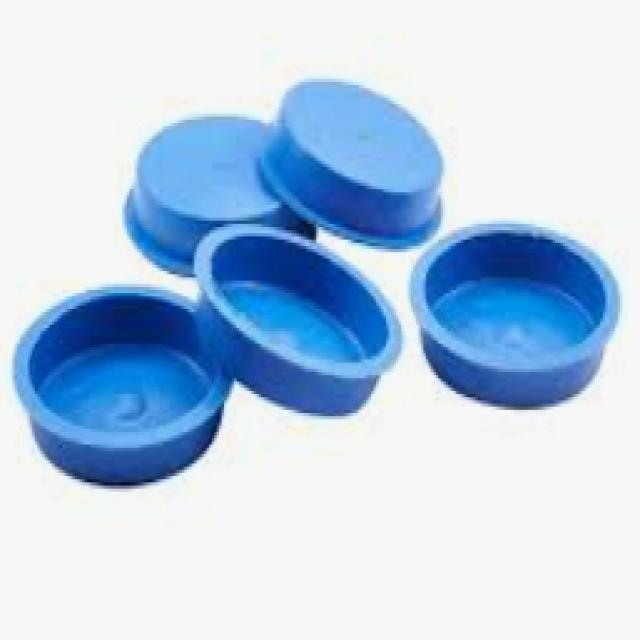TutupGalon: (10, 72, 620, 488)
